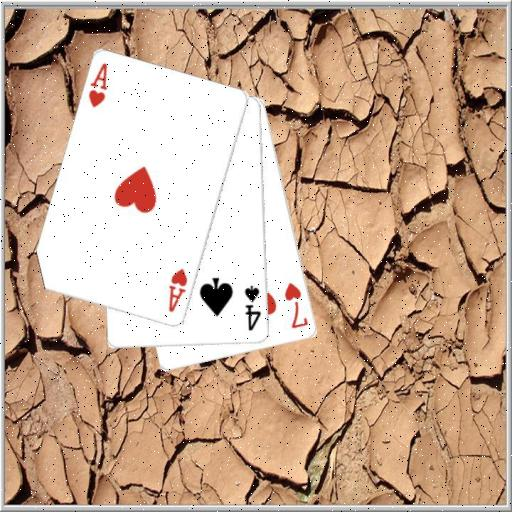4S: (242, 283, 264, 333)
7H: (282, 280, 310, 331)
AH: (86, 60, 110, 110), (166, 266, 190, 315)
